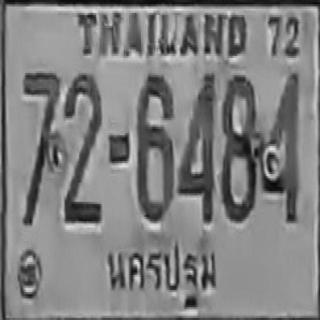N02: (62, 71, 102, 223)
N04: (261, 70, 299, 222), (177, 71, 215, 221)
N06: (136, 73, 174, 221)
N07: (22, 71, 60, 223), (22, 71, 61, 180)
N08: (221, 73, 261, 221)
P28: (105, 240, 218, 308)
